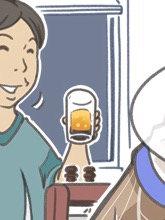beer: (59, 86, 99, 144)
cup: (60, 82, 103, 146)
